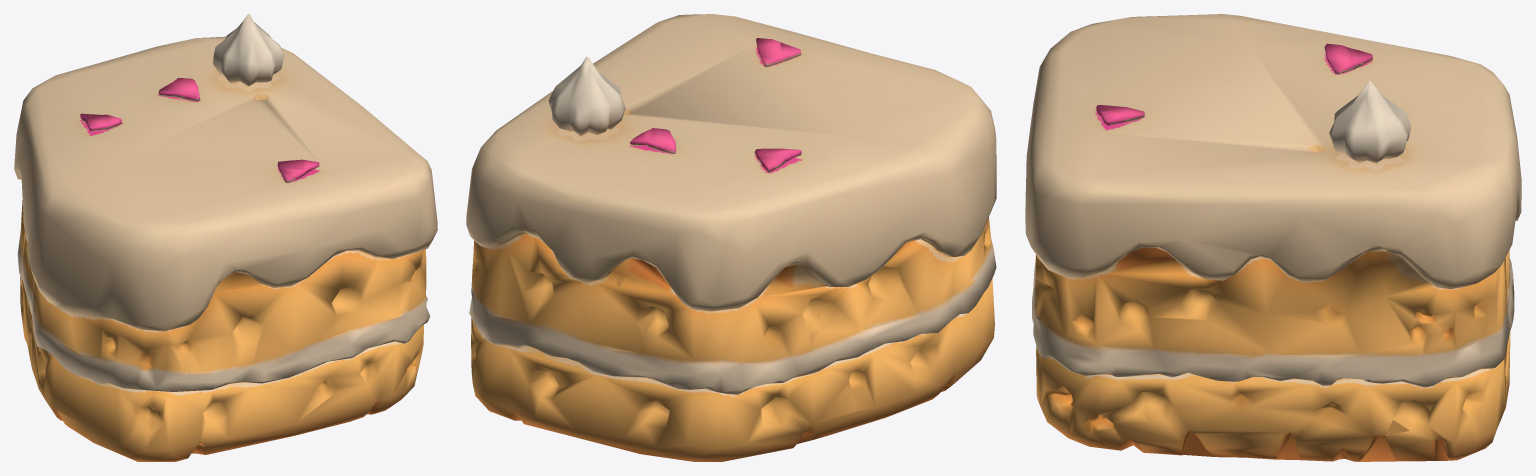
Rendered from CreamBlock.fbx.
3 views of the same model, side by side, from view 1: azimuth 30°, elevation 25°; view 2: azimuth 150°, elevation 25°; view 3: azimuth 270°, elevation 25° (orthographic). The views are drawn at different scales.
Parts seen in each view (by area): view 1: CreamBlock; view 2: CreamBlock; view 3: CreamBlock.
Part boxes in pixels (left/top/right/bottom): CreamBlock: left=14, top=14, right=437, bottom=461; CreamBlock: left=466, top=14, right=996, bottom=461; CreamBlock: left=1025, top=14, right=1521, bottom=461.
Bounding box in the file's own units: 10 × 8.12 × 10.45.
1 material, 1 textured.
